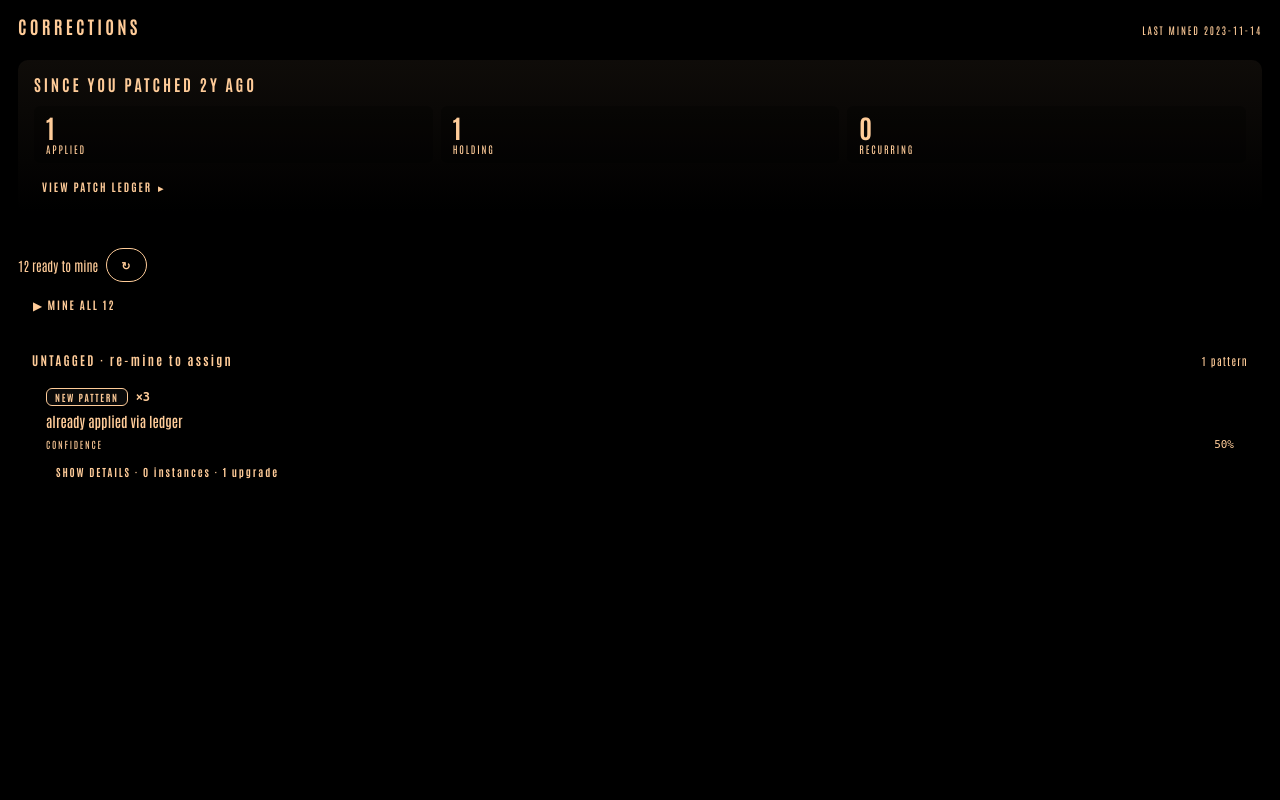
Test: CorrectionsPanel › applied-improvements merge › treats applied: true on the merged upgrade as initial APPLIED state
The width and height of the screenshot is (1280, 800).
expect the heading "already applied via ledger" is shown: met, box top-left (46, 412), bottom-right (183, 430)
Click the button "SHOW DETAILS · 0 instances · 1 upgrade" at [167, 471], box top-left (46, 461), bottom-right (289, 482)
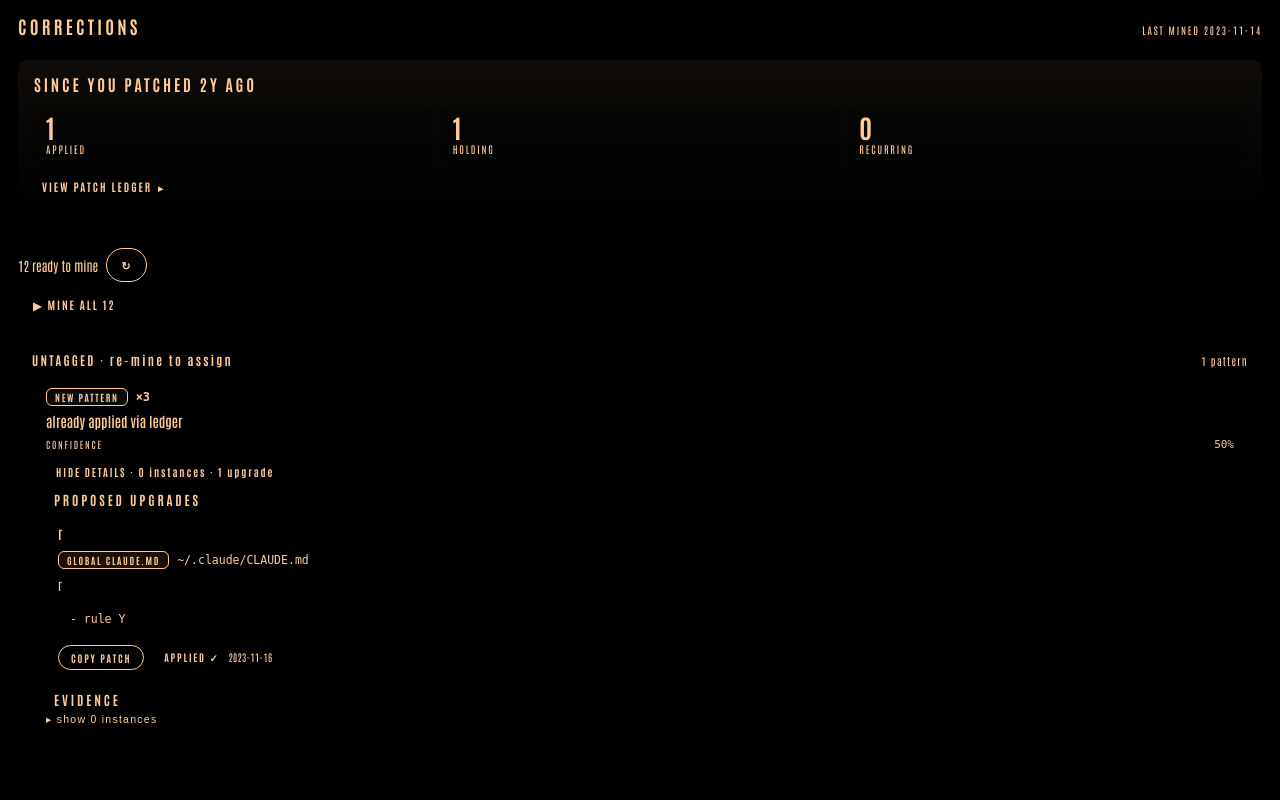
expect the text "APPLIED ✓ 2023-11-16" is shown: met, box top-left (164, 650), bottom-right (272, 663)
